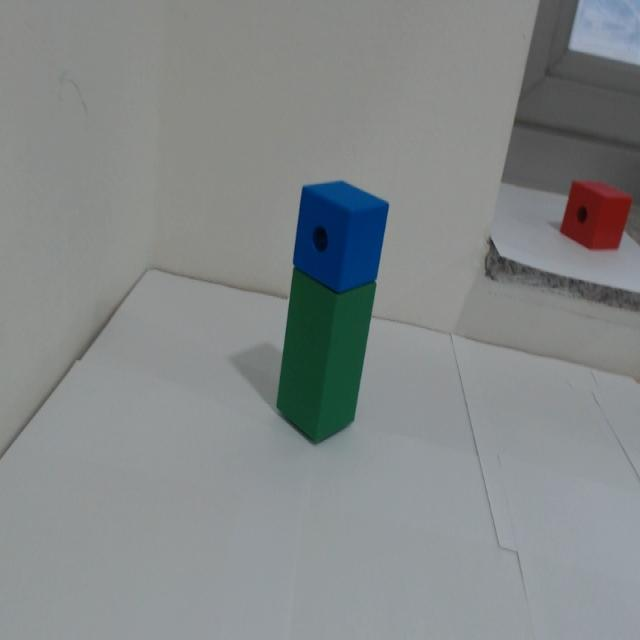cube: (269, 273, 393, 486), (274, 165, 407, 292)
